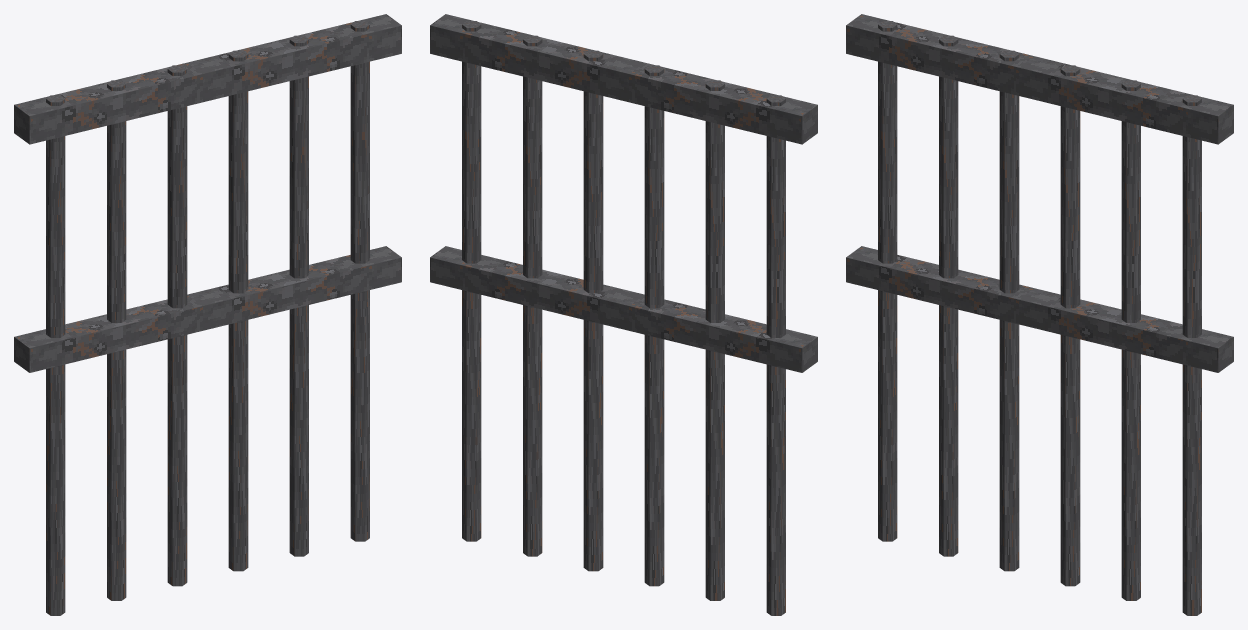
The model's file is iron_gate.glb.
3 renders of one model, left to right at view 1: azimuth 30°, elevation 25°; view 2: azimuth 150°, elevation 25°; view 3: azimuth 330°, elevation 25°, orthographic.
Parts seen in each view (by area): view 1: TopBar; view 2: TopBar; view 3: TopBar.
Boxes of the visible parts, box(x1,y1,x2,y2) form: TopBar: box(14, 14, 401, 615); TopBar: box(430, 14, 817, 615); TopBar: box(846, 14, 1233, 615).
Bounding box in the file's own units: 2.2 × 2.9 × 0.16.
1 material, 1 textured.
